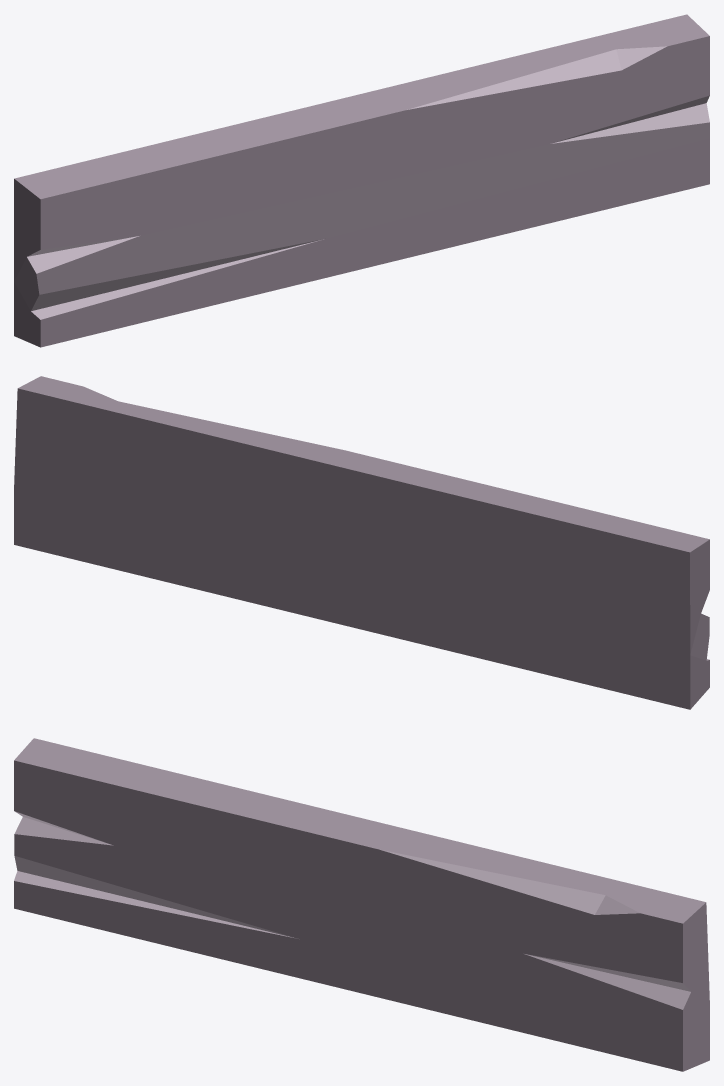
The model's file is WoodPice.fbx.
3 views of the same model, one above another, from view 1: azimuth 30°, elevation 25°; view 2: azimuth 150°, elevation 25°; view 3: azimuth 330°, elevation 25° (orthographic).
Parts seen in each view (by area): view 1: Wood; view 2: Wood; view 3: Wood.
Boxes of the visible parts, x1,y1,x2,y2 form: Wood: (14, 14, 709, 347); Wood: (14, 376, 709, 709); Wood: (14, 738, 709, 1071).
Bounding box in the file's own units: 1.1 × 0.2445 × 0.0651.
Materials: 1 (1 with a texture image).
